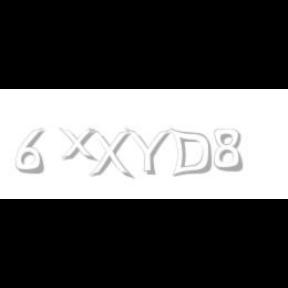6: (16, 128, 44, 176)
8: (214, 128, 242, 172)
D: (170, 128, 212, 178)
X: (88, 128, 132, 180)
Y: (124, 128, 170, 176)
x: (59, 128, 101, 162)
